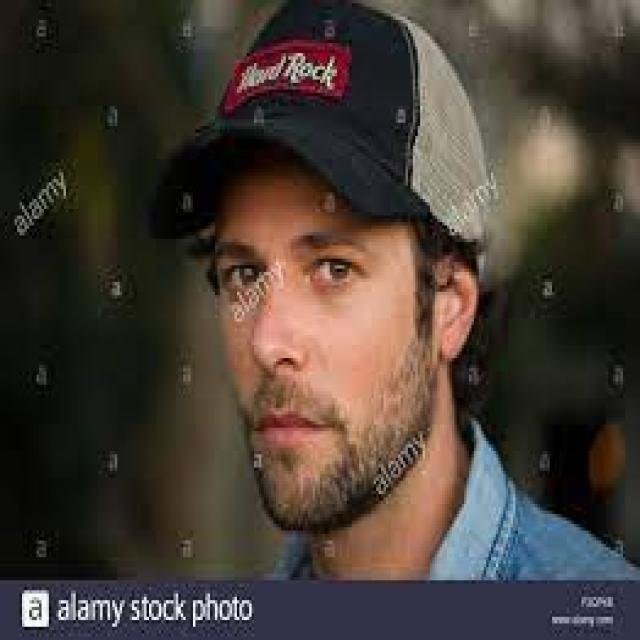cap: (151, 0, 505, 371)
